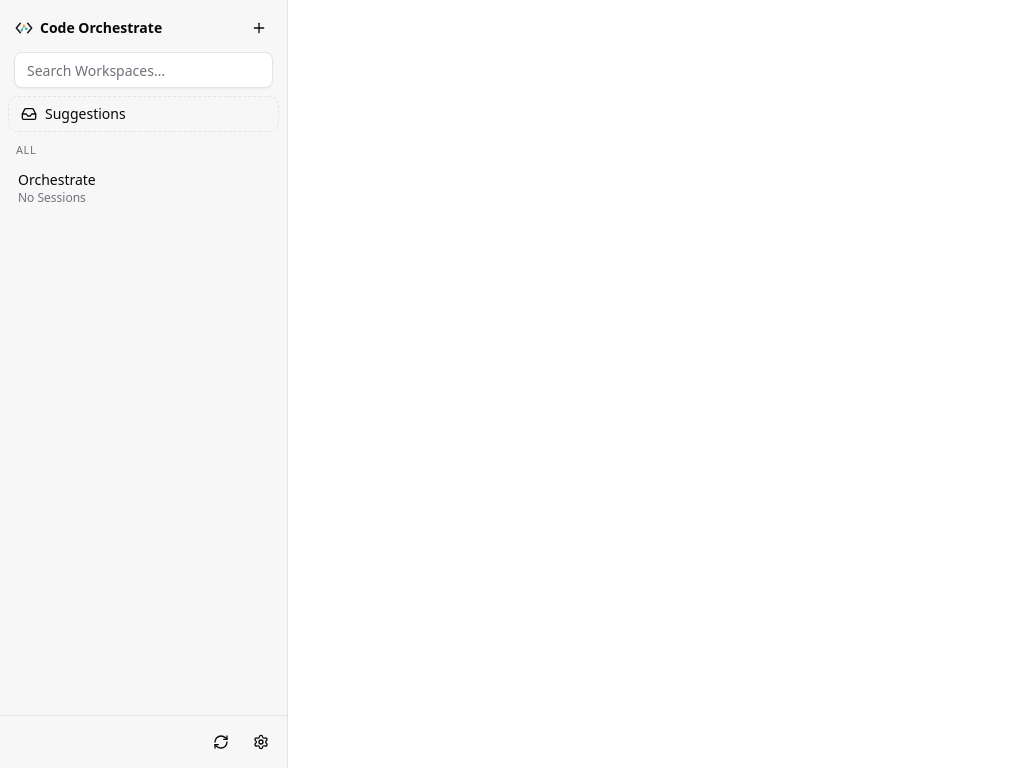
Test: Add Workspace › rejects a duplicate inline, linking to the existing Workspace
The image size is (1024, 768).
Click the button named "Add Workspace".
click(259, 28)  # box [245,14,273,42]
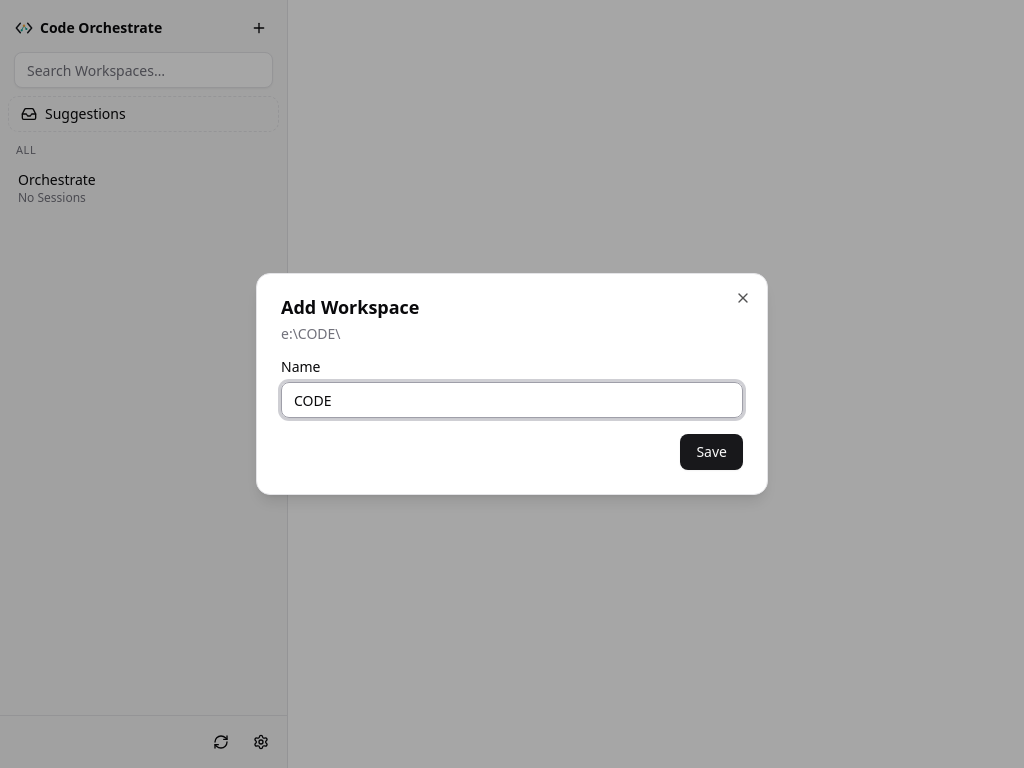
Click the button "Save".
click(712, 452)  # box [680,434,743,470]
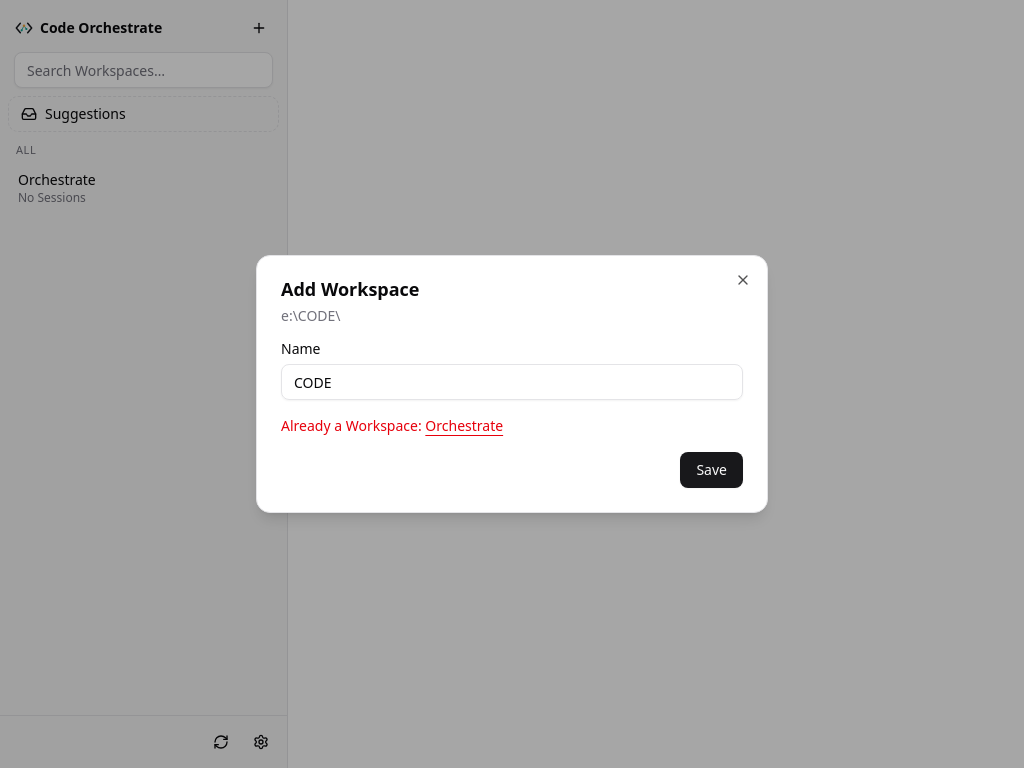
Check: the message reads "Already a Workspace: Orchestrate", box [281,416,503,436]
Click the button "Orchestrate".
click(464, 426)  # box [425,416,503,436]
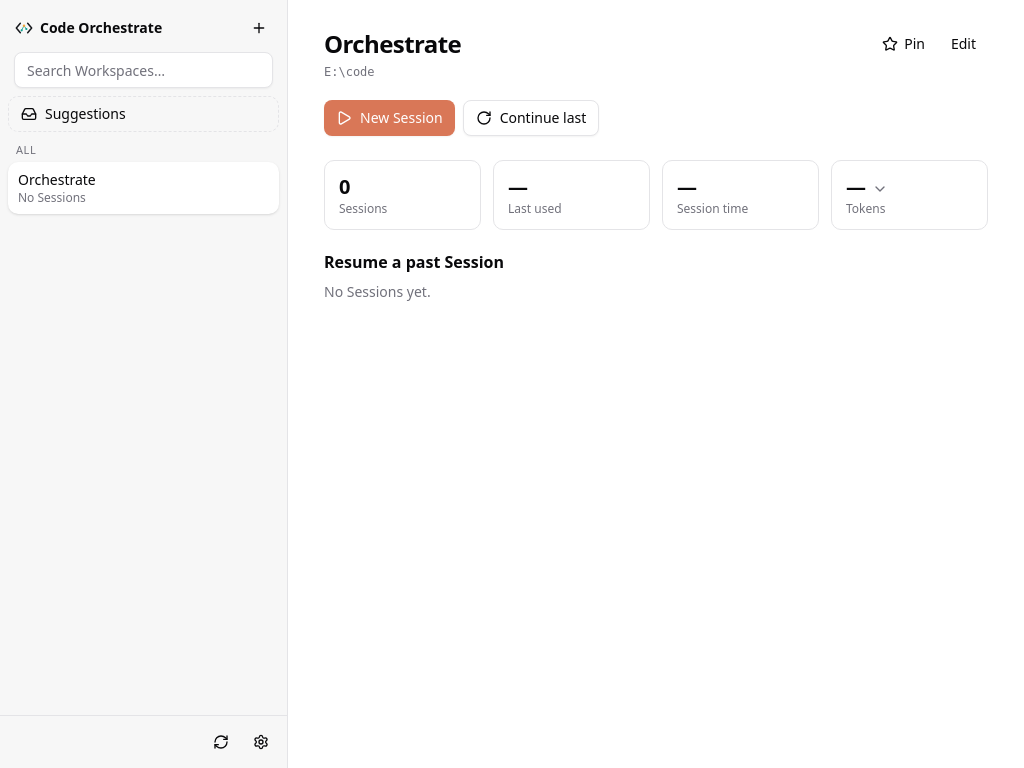
Check: the heading "Orchestrate" is shown, box [324,28,461,60]
Check: the dialog is gone
